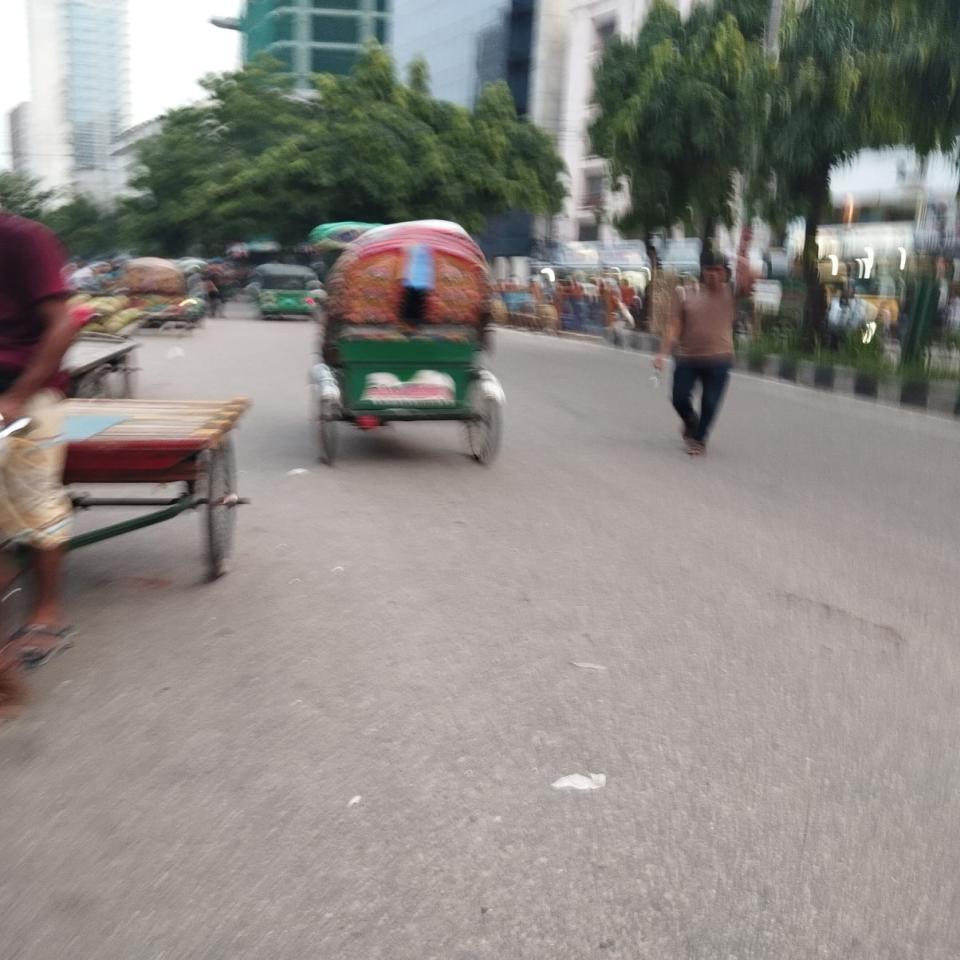person: (652, 252, 754, 454)
